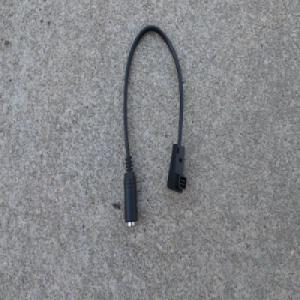Wire: (121, 23, 187, 229)
